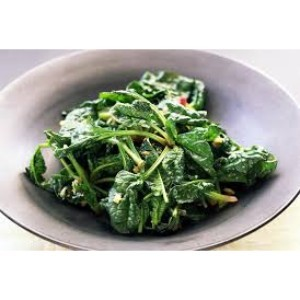spinach_brain food: (31, 71, 260, 223)
